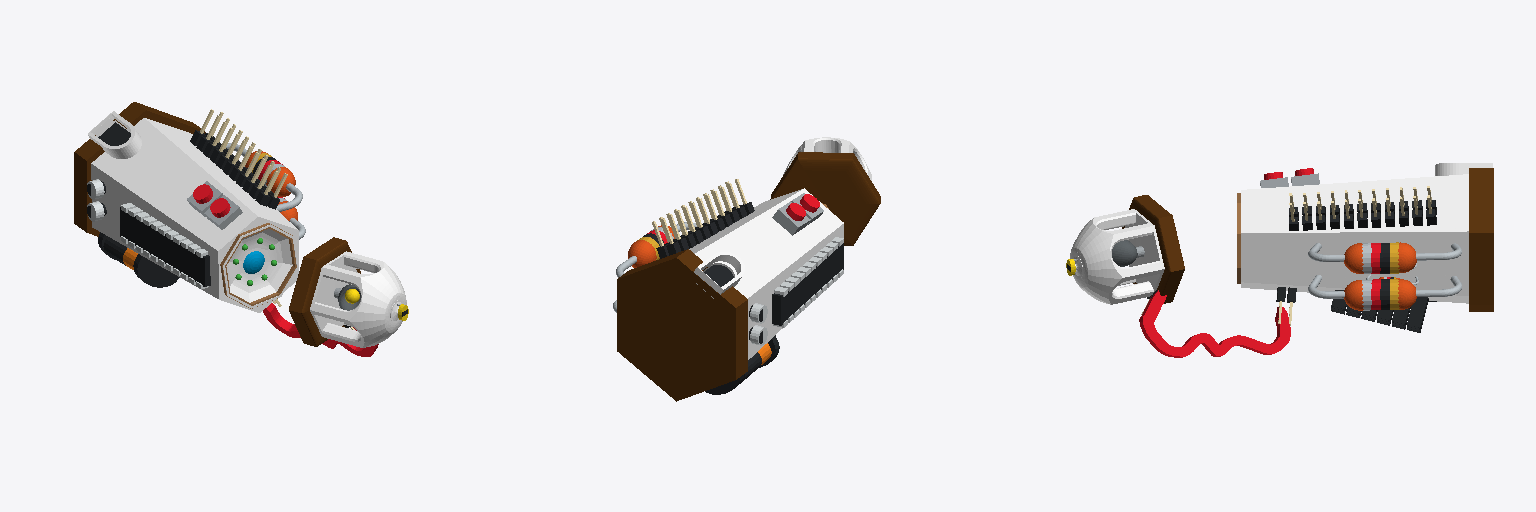
Rendered from tinker.obj.
The picture shows the model from 3 angles: view 1: azimuth 30°, elevation 25°; view 2: azimuth 150°, elevation 25°; view 3: azimuth 270°, elevation 25°; orthographic projection.
Visible parts, largest first — view 1: obj_0; view 2: obj_0; view 3: obj_0.
Boxes of the visible parts, <box> form: obj_0: <box>74,102,408,356</box>; obj_0: <box>613,137,880,401</box>; obj_0: <box>1066,163,1493,357</box>.
Bounding box in the file's own units: 53.5 × 53.95 × 123.